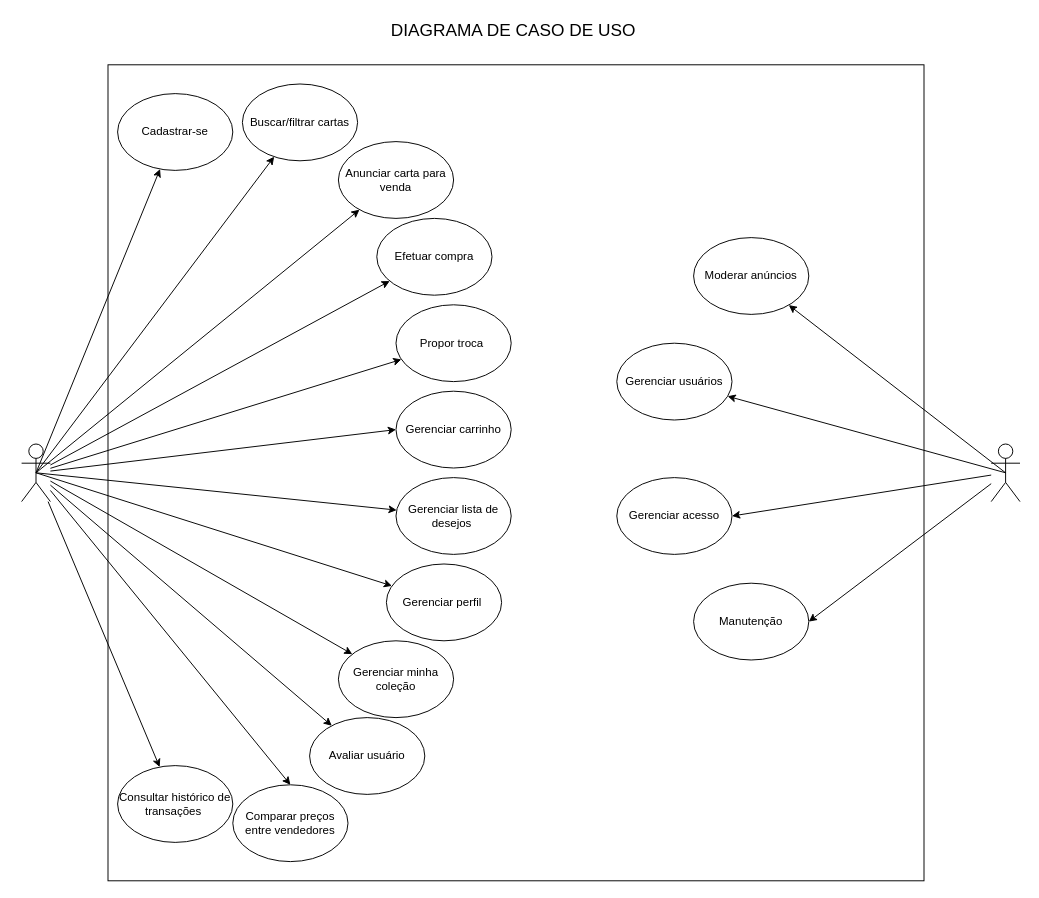
This 1039x898 diagram has some shape labels left out. The box of each missing label's shape, as (x1, y1, x2, y2) in pixels:
Admin: (990, 443, 1020, 502)
Usuário: (21, 443, 50, 502)
